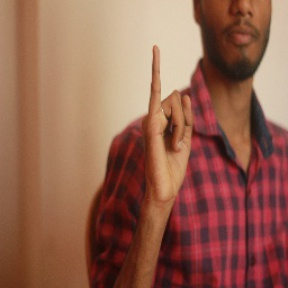I: (141, 44, 198, 198)
